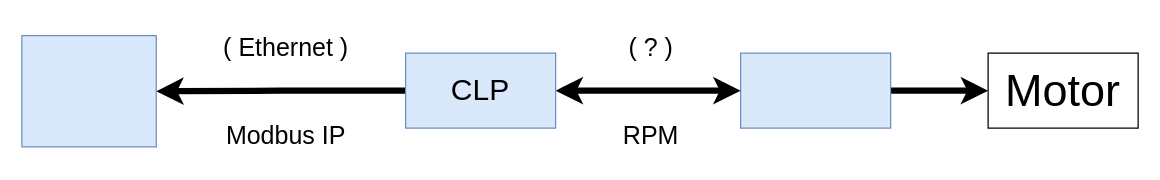
Some shapes in this 1160 by 180 pixel diagram are drawn without their labels. The shapes that lost their labels are listed below. From the top down, each one's box as (x1, y1, x2, y2) in pixels, then its label:
(21, 34, 156, 147): SCADA LTS
(739, 52, 891, 128): Inversor
